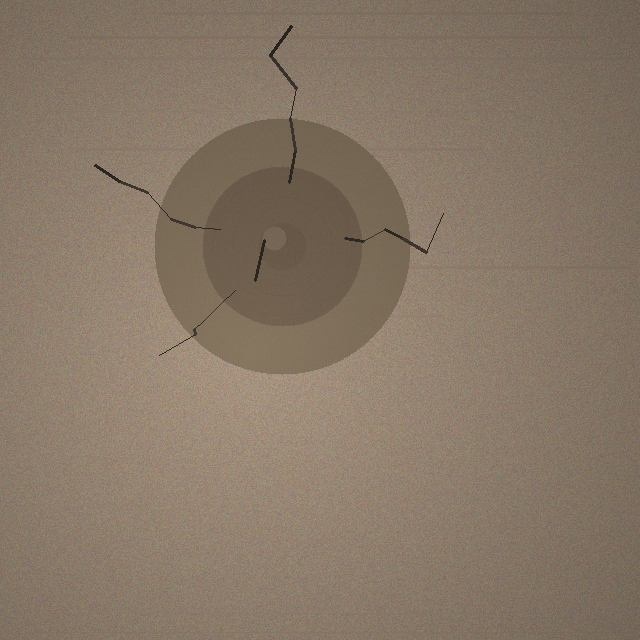crack: (154, 118, 410, 374)
